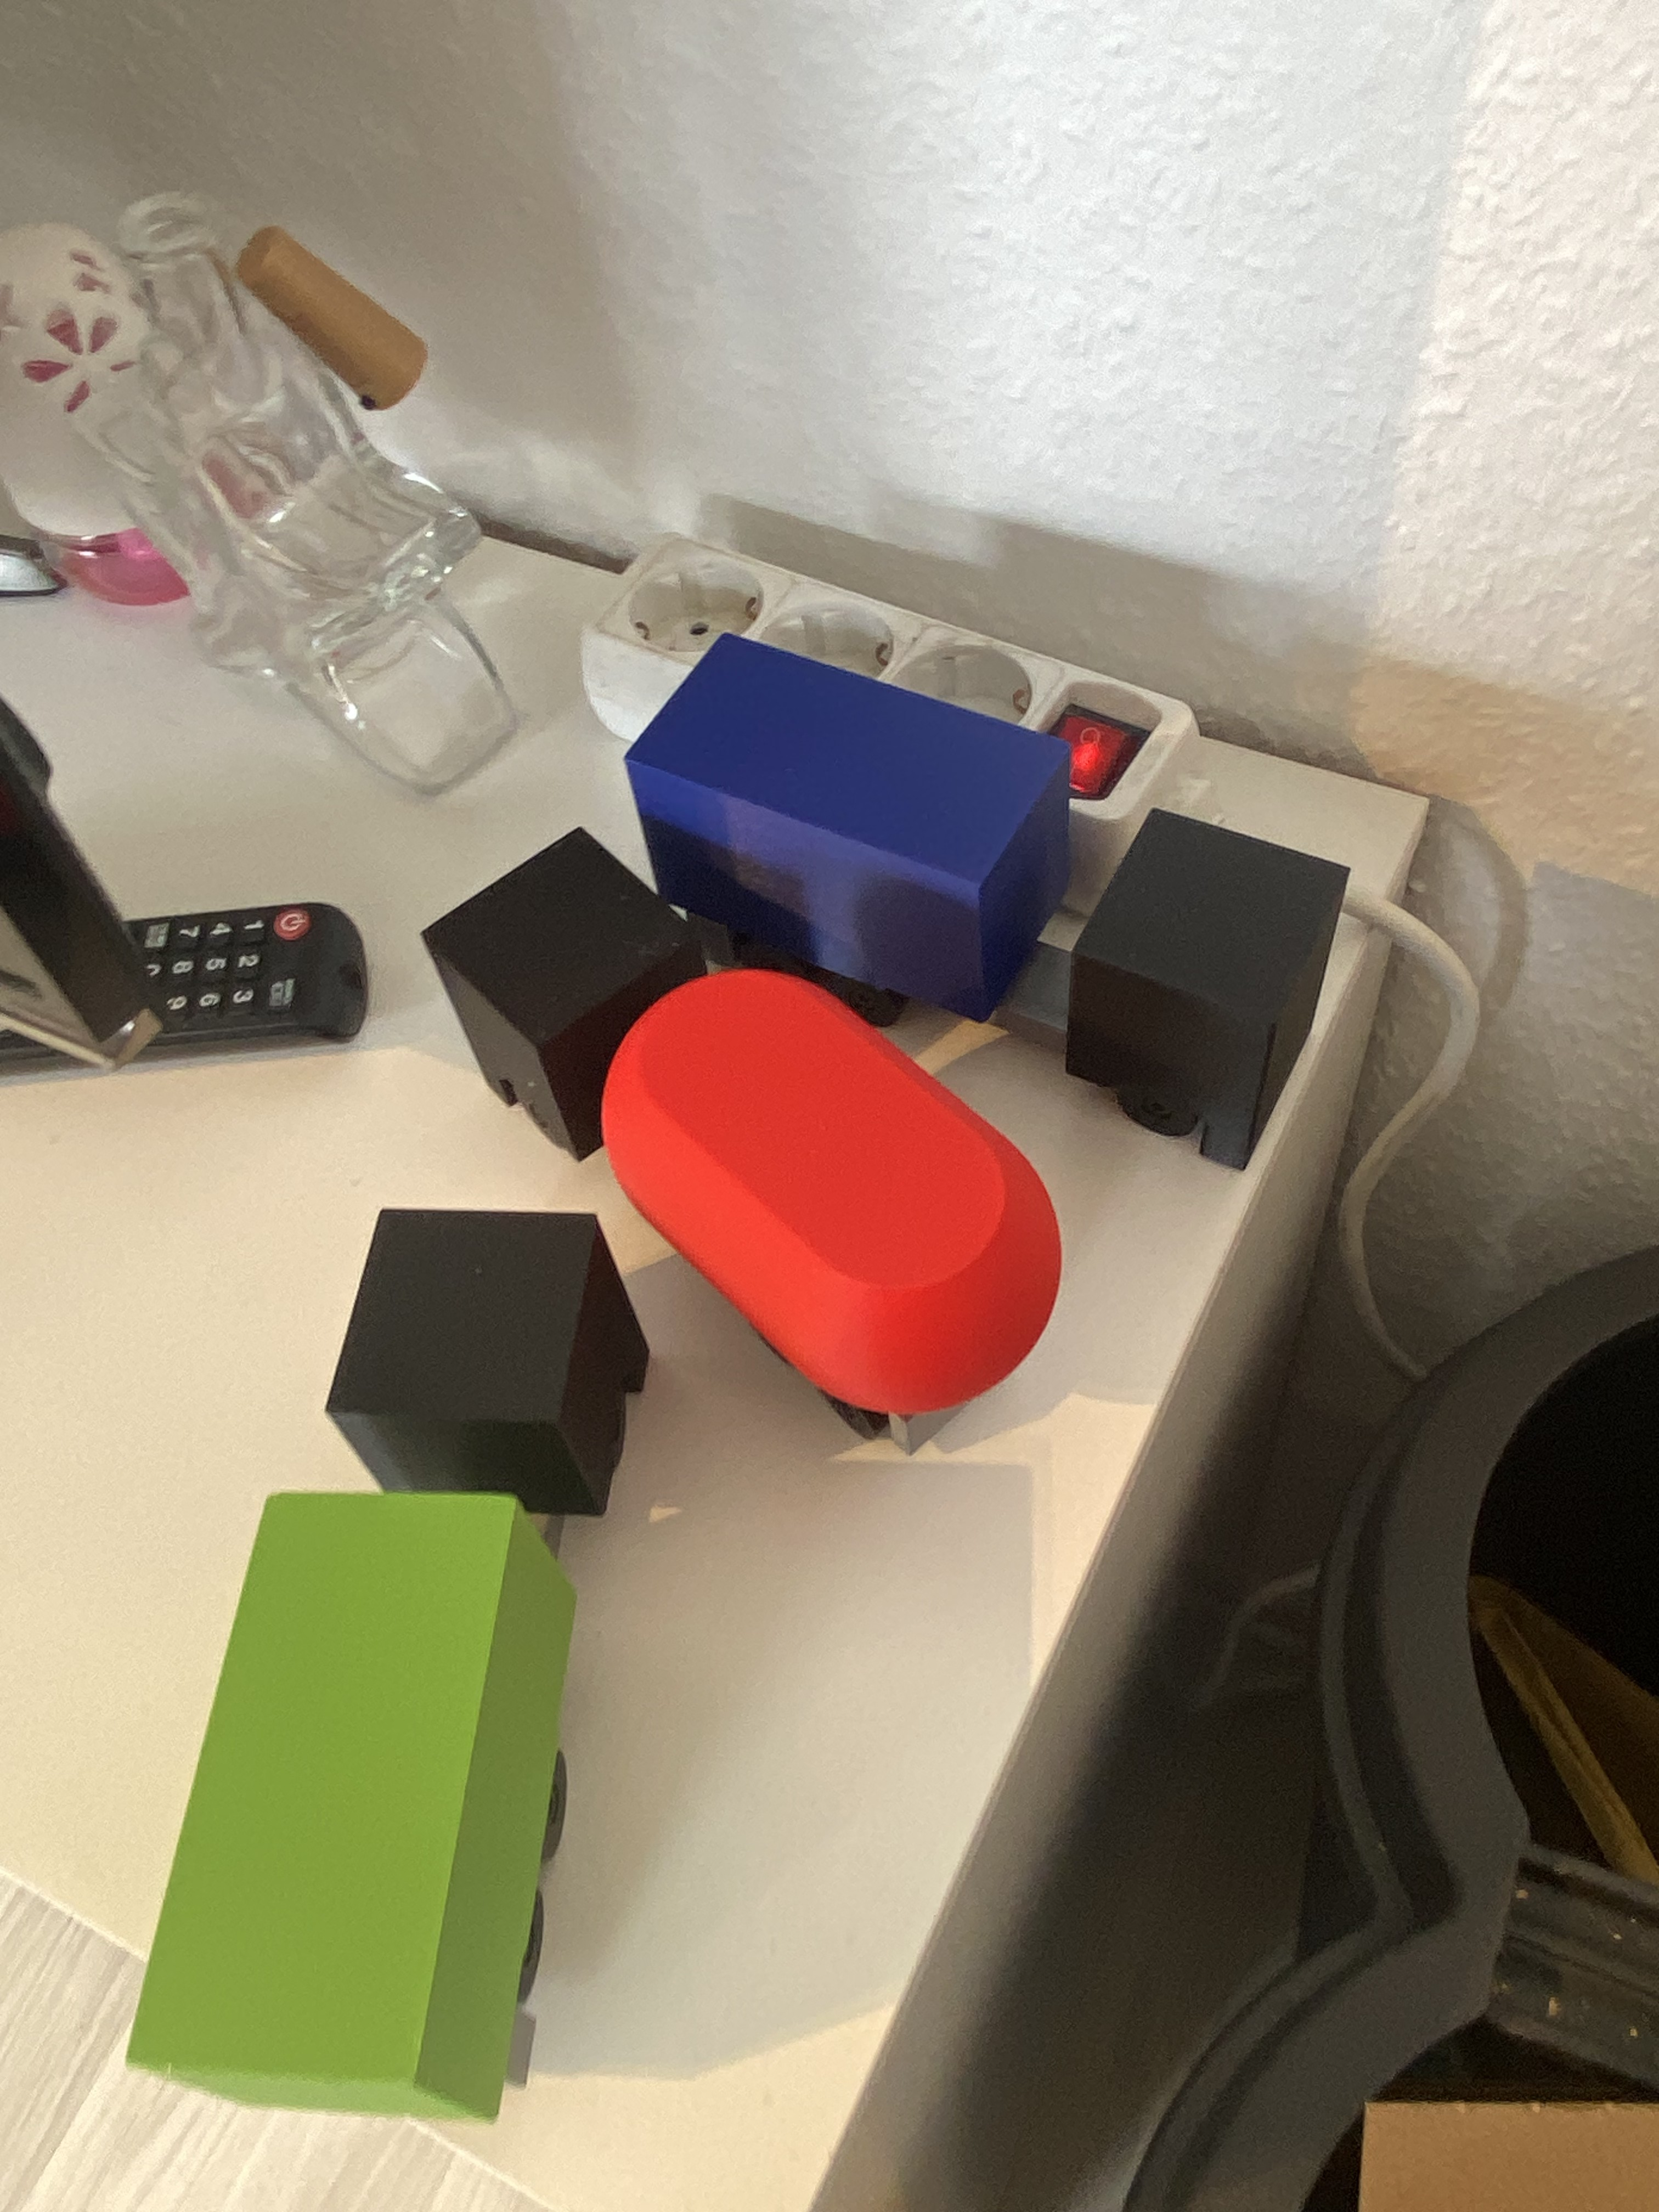blue_truck: (599, 714, 1335, 1083)
green_truck: (197, 1190, 603, 2135)
red_truck: (389, 954, 1126, 1292)
